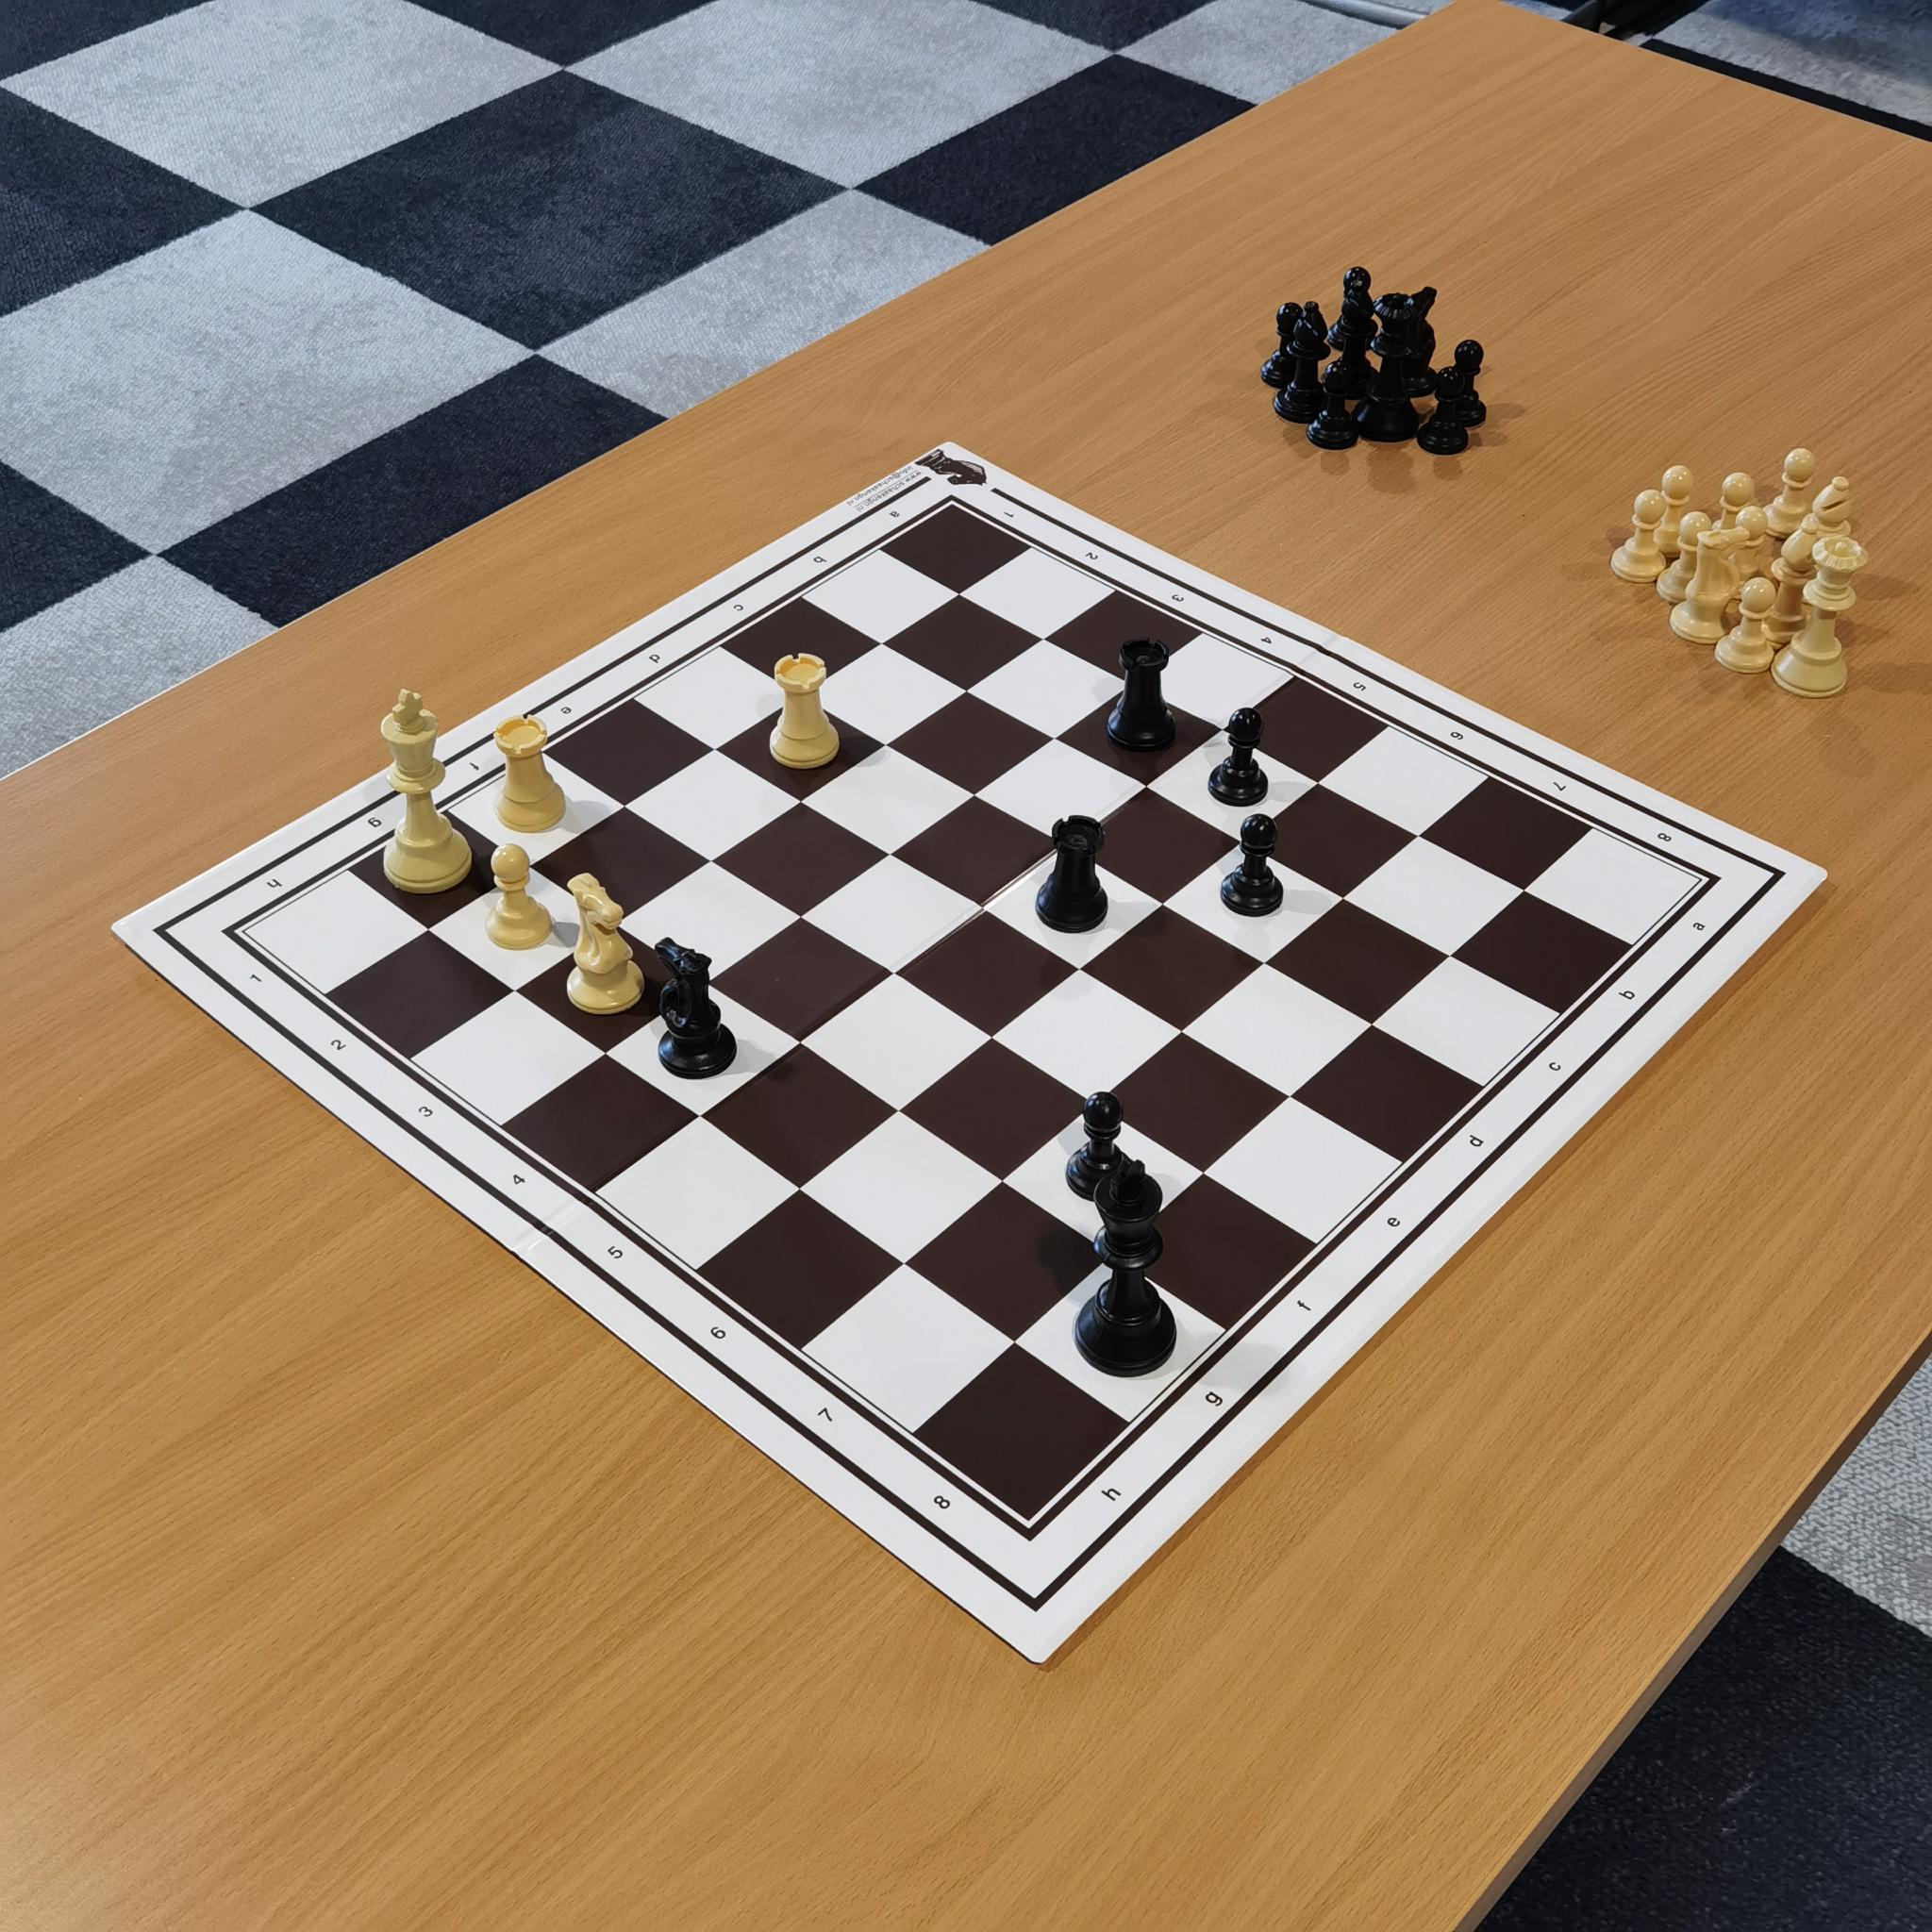corners: (1005, 1500, 1063, 1553), (211, 915, 271, 957), (1677, 862, 1736, 902), (929, 488, 977, 531)
eight: (1640, 817, 1691, 863), (924, 1479, 973, 1523)
one: (234, 955, 272, 996), (993, 499, 1024, 533)
